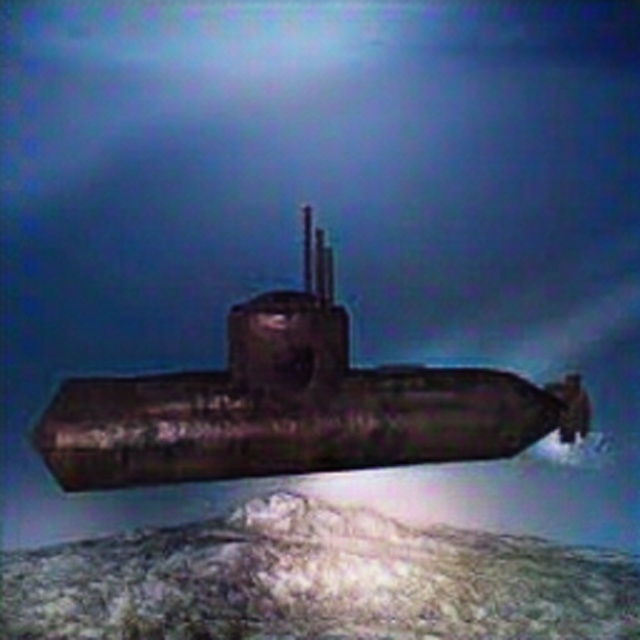submarine: (22, 207, 606, 500)
